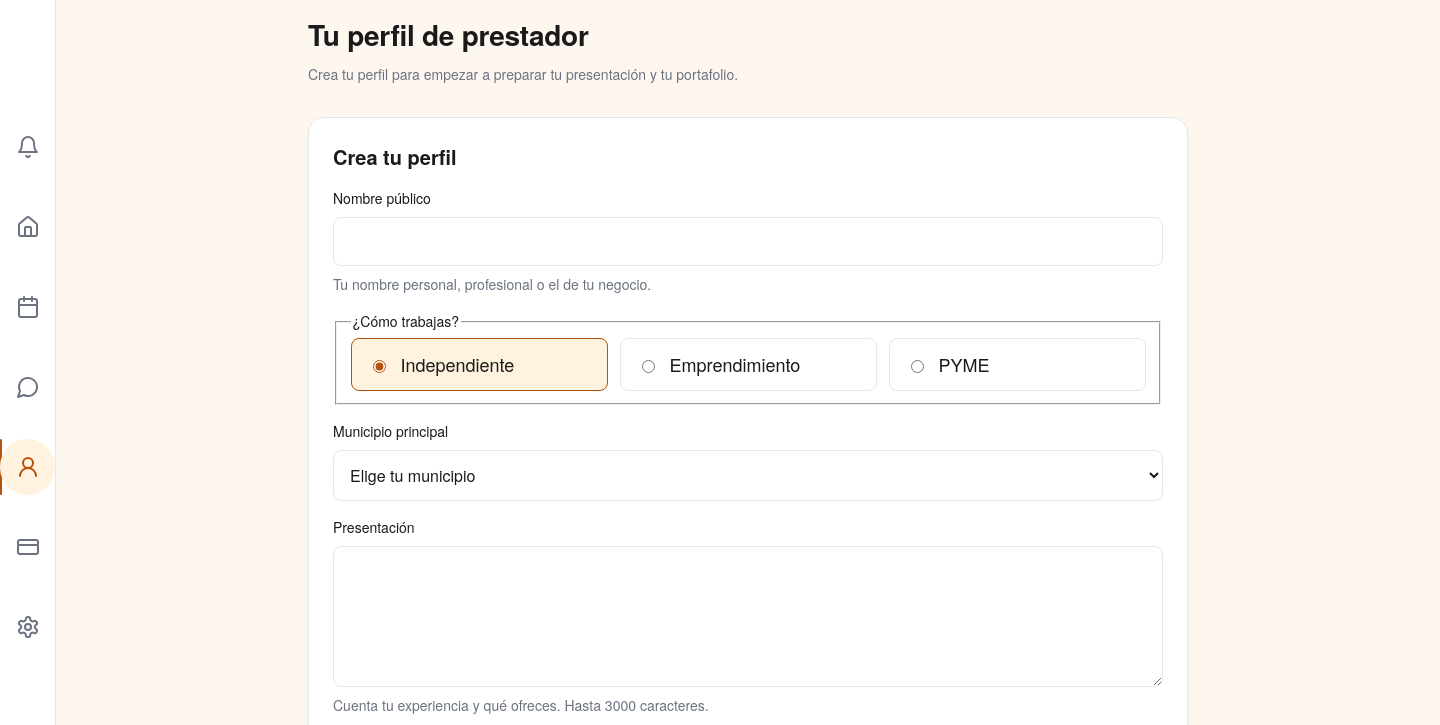
Scenario: Perfil de prestador › crea el perfil con el tipo y el municipio elegidos
The image size is (1440, 725).
Expected: the heading "Crea tu perfil" is shown, [333, 142, 456, 171]
Step 1. Type "Taller La Esperanza" into the field labelled "Nombre público" → (748, 242), box [333, 217, 1163, 266]
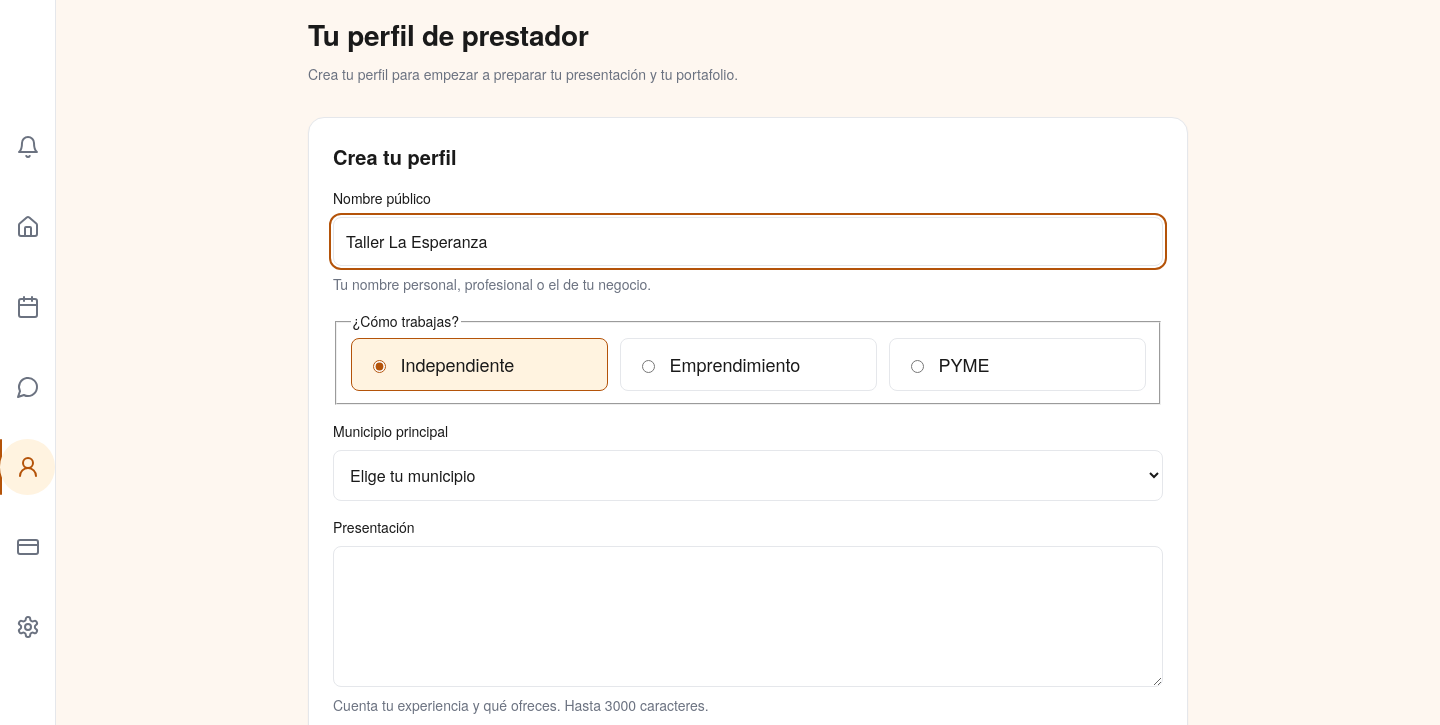
Step 2. Click the radio button labelled "Emprendimiento" → (648, 366), box [642, 360, 654, 373]
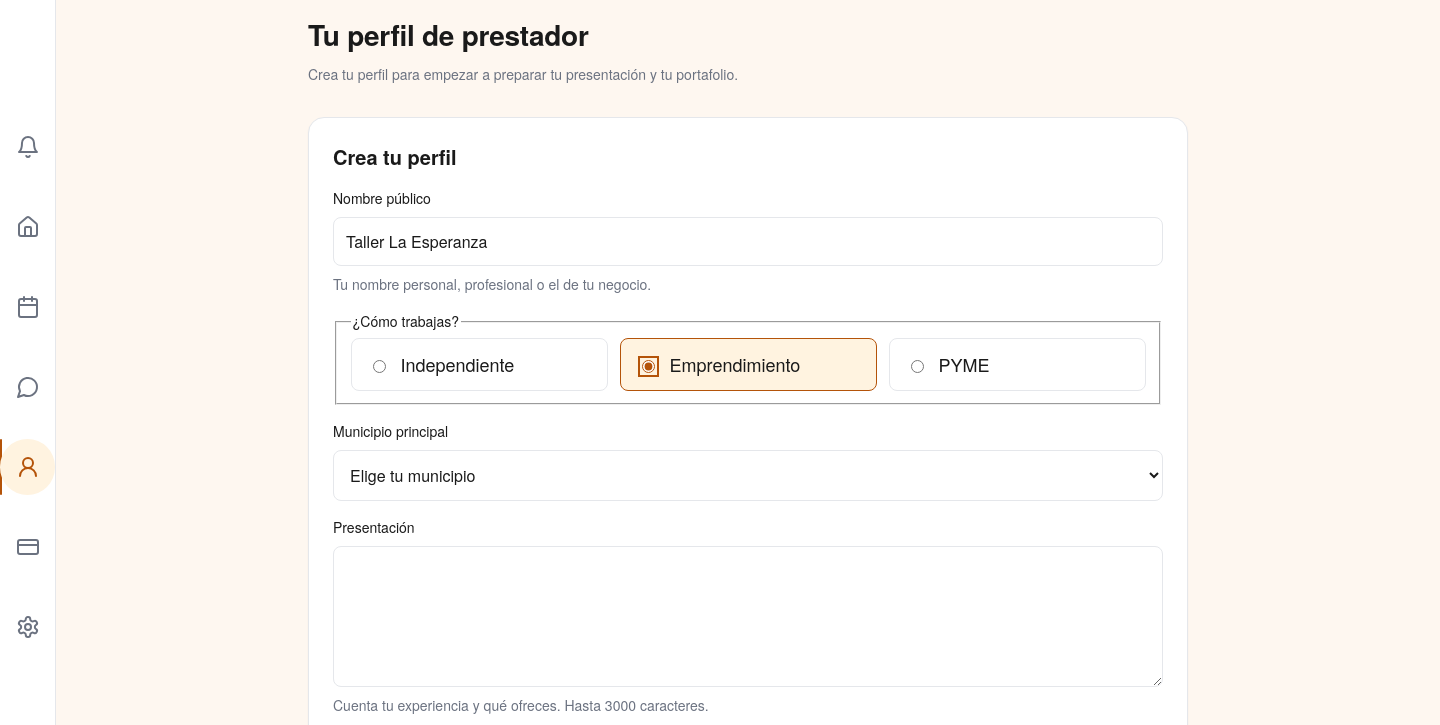
Step 3. Select "Tipitapa" in the dropdown labelled "Municipio principal" → (748, 475), box [333, 450, 1163, 500]
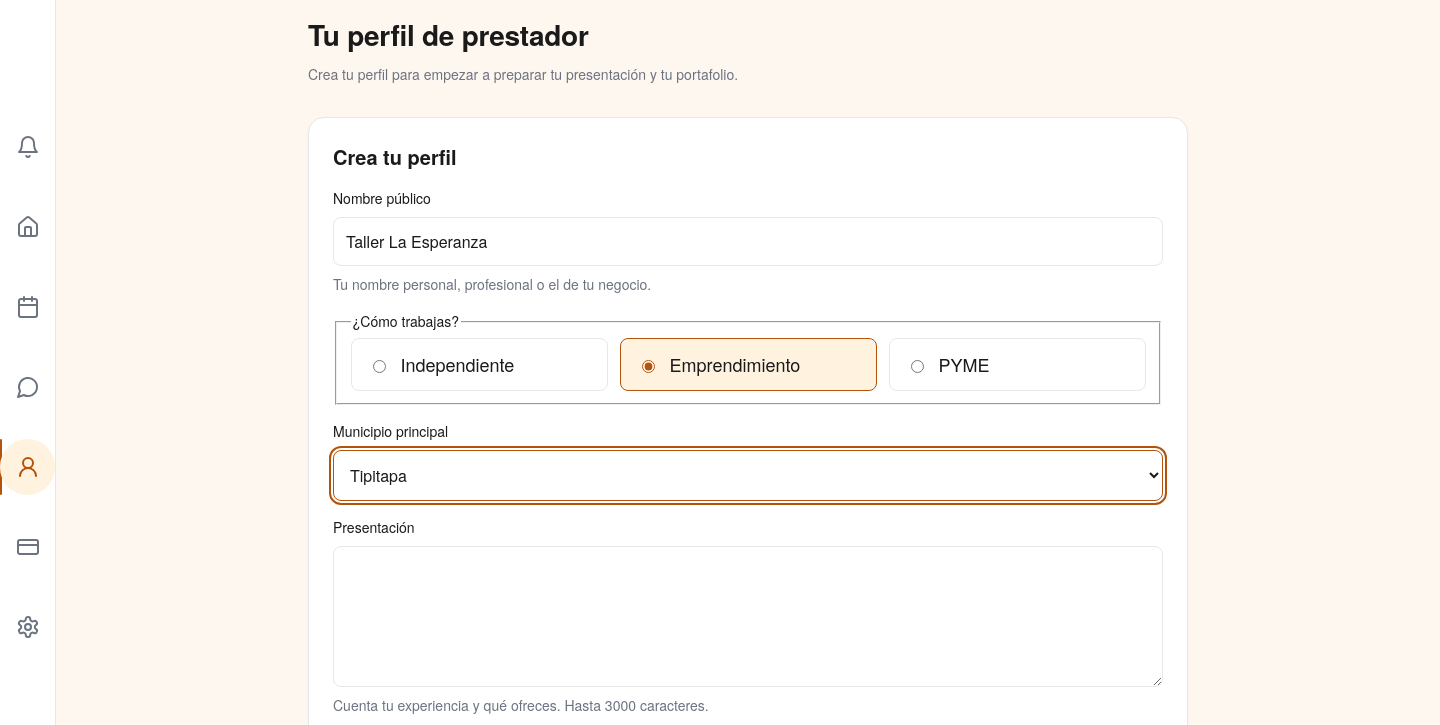
Step 4. Type "Diez años reparando instalaciones." into the text box labelled "Presentación" → (748, 616), box [333, 546, 1163, 686]
(page scrolled)
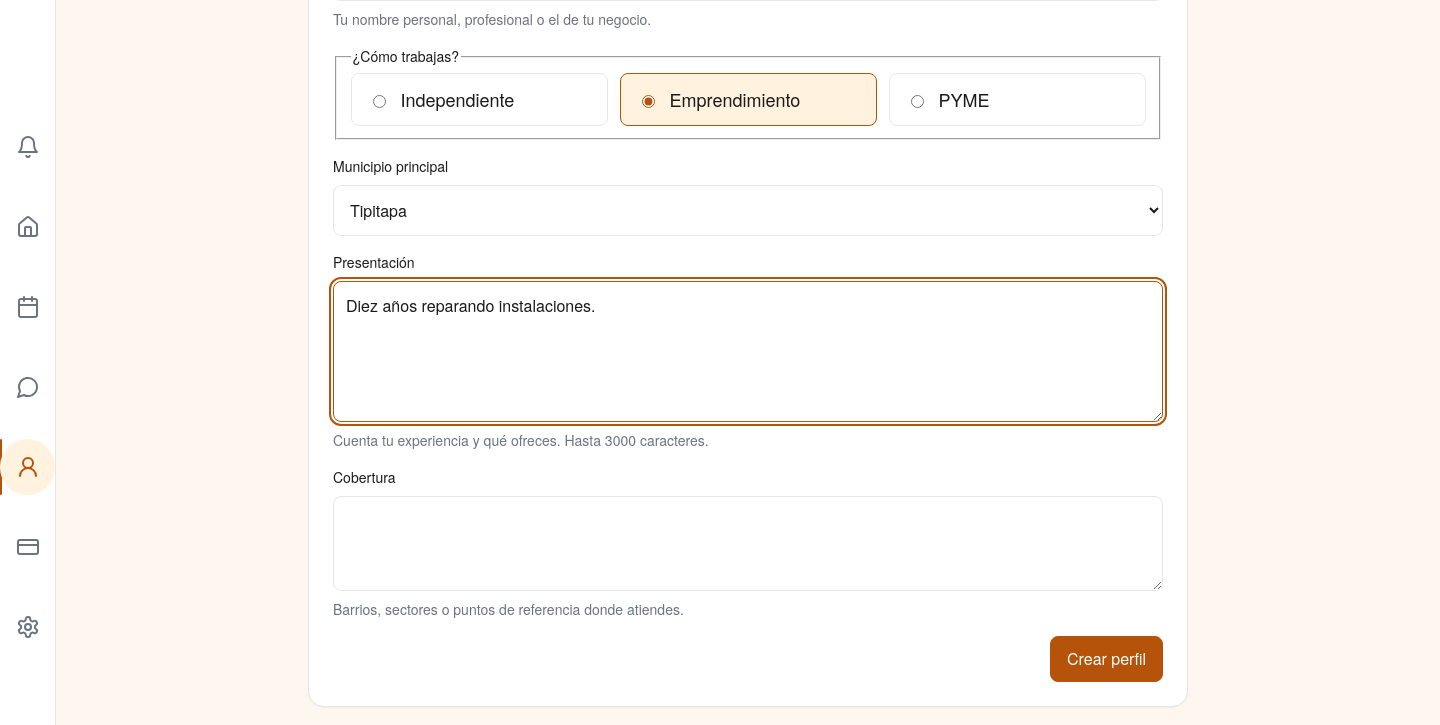
Step 5. Type "Distritos I y II." into the text box labelled "Cobertura" → (748, 543), box [333, 496, 1163, 590]
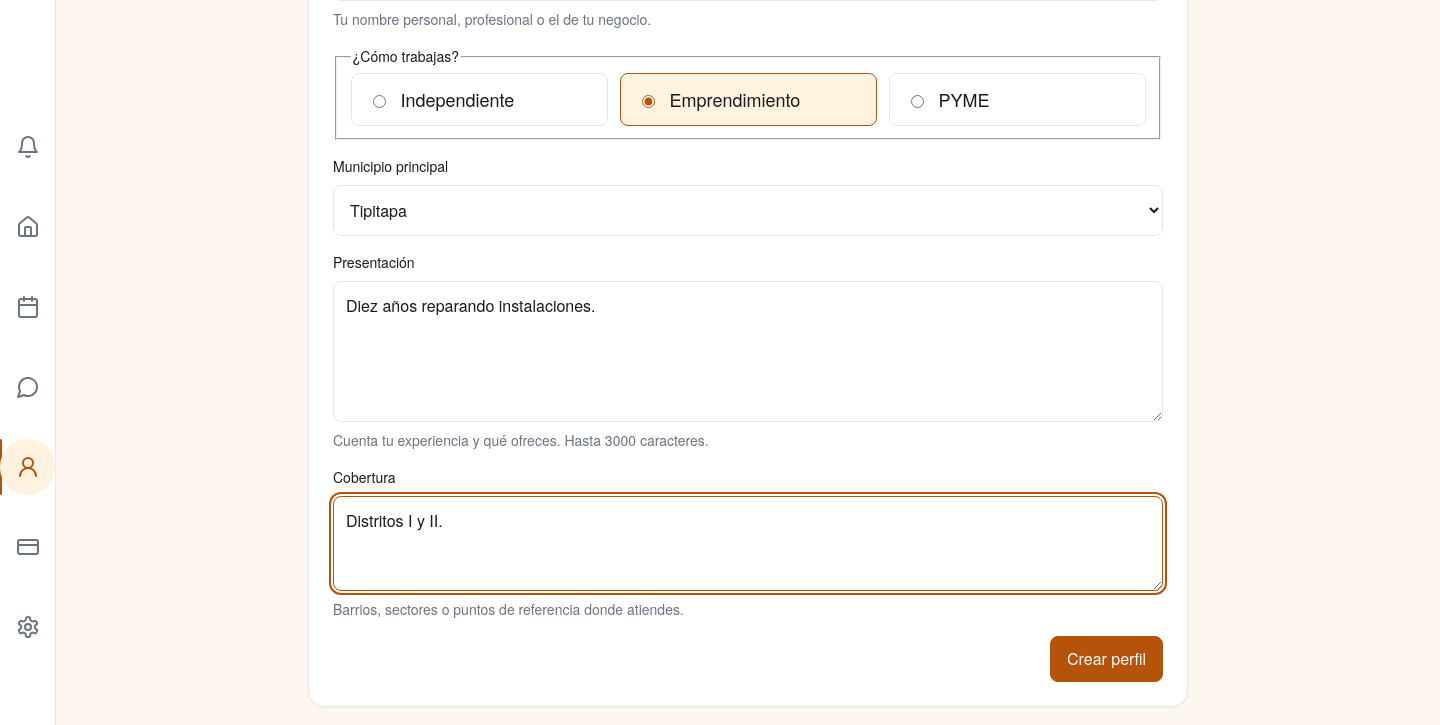
Step 6. Click the button "Crear perfil" → (1106, 658), box [1050, 636, 1163, 682]
(page scrolled)
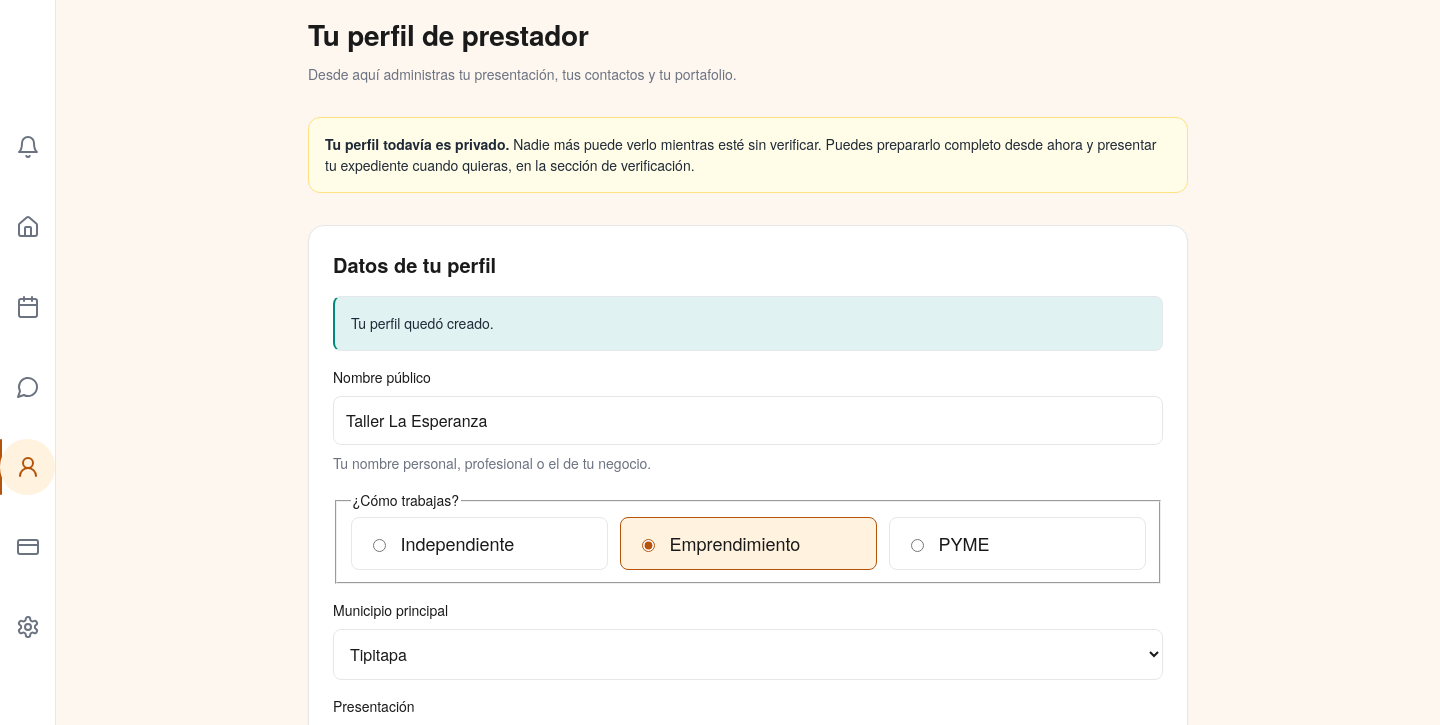
Expected: the text "Tu perfil quedó creado." is shown, [333, 296, 1163, 351]
